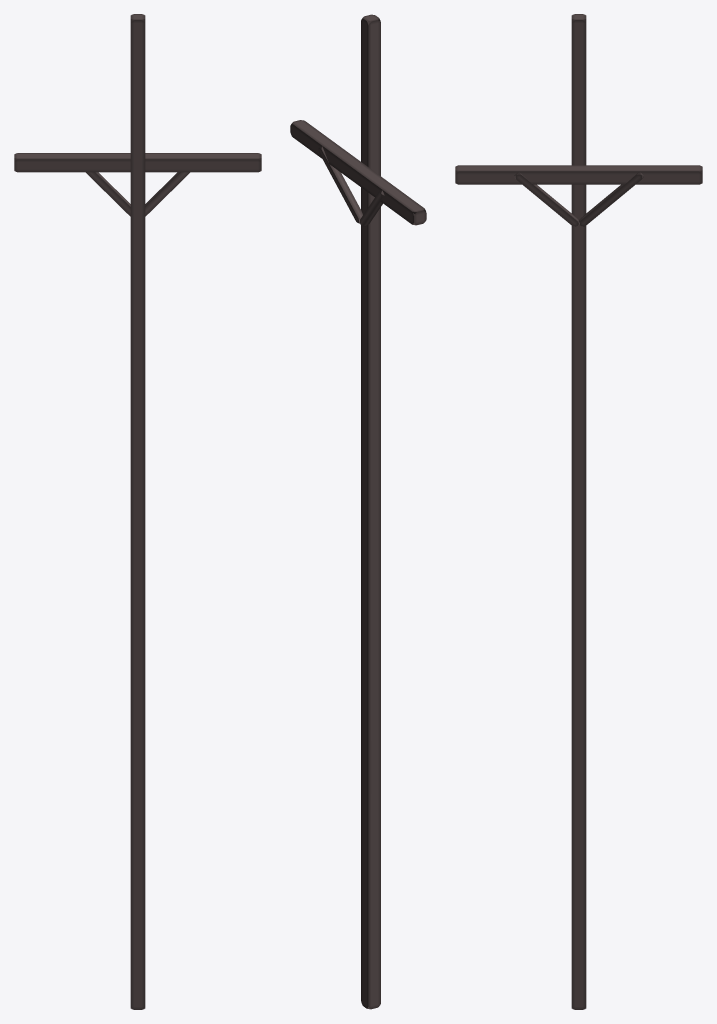
File: electricpole.fbx
3 views of the same model, side by side, from view 1: azimuth 90°, elevation 25°; view 2: azimuth 210°, elevation 25°; view 3: azimuth 270°, elevation 25° (orthographic).
Parts seen in each view (by area): view 1: group; view 2: group; view 3: group.
Boxes of the visible parts, bbox=[...] form: group: bbox=[14, 14, 261, 1009]; group: bbox=[290, 14, 426, 1009]; group: bbox=[455, 14, 702, 1009].
Size of the model in its own units: 27.32 by 938 by 212.
Materials: 1 (1 with a texture image).
